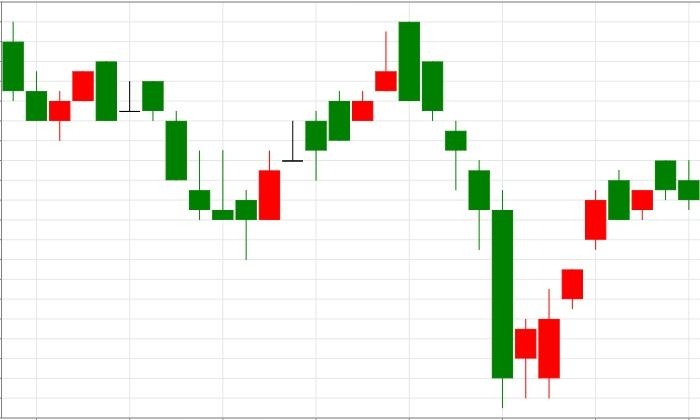three_white_soldiers_rise: (398, 21, 606, 408)
